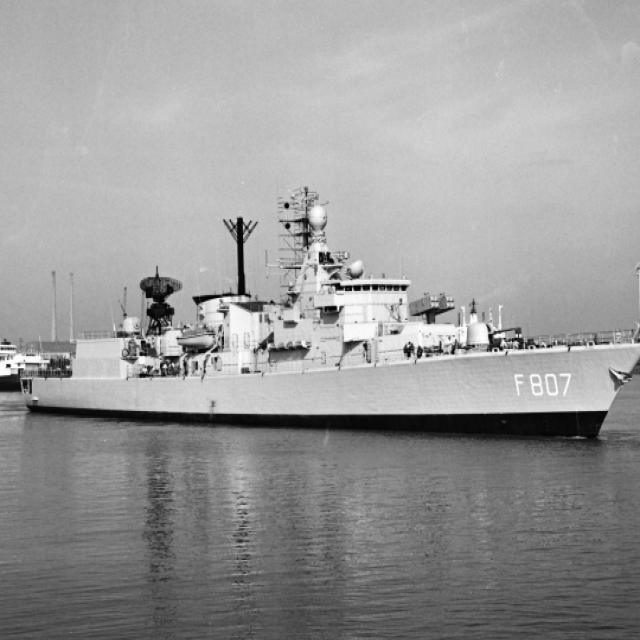Fragata: (16, 190, 640, 448)
